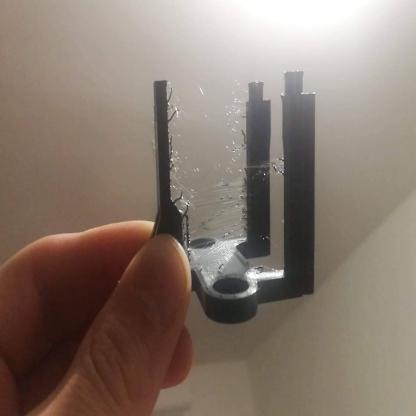fail: (171, 93, 249, 214)
